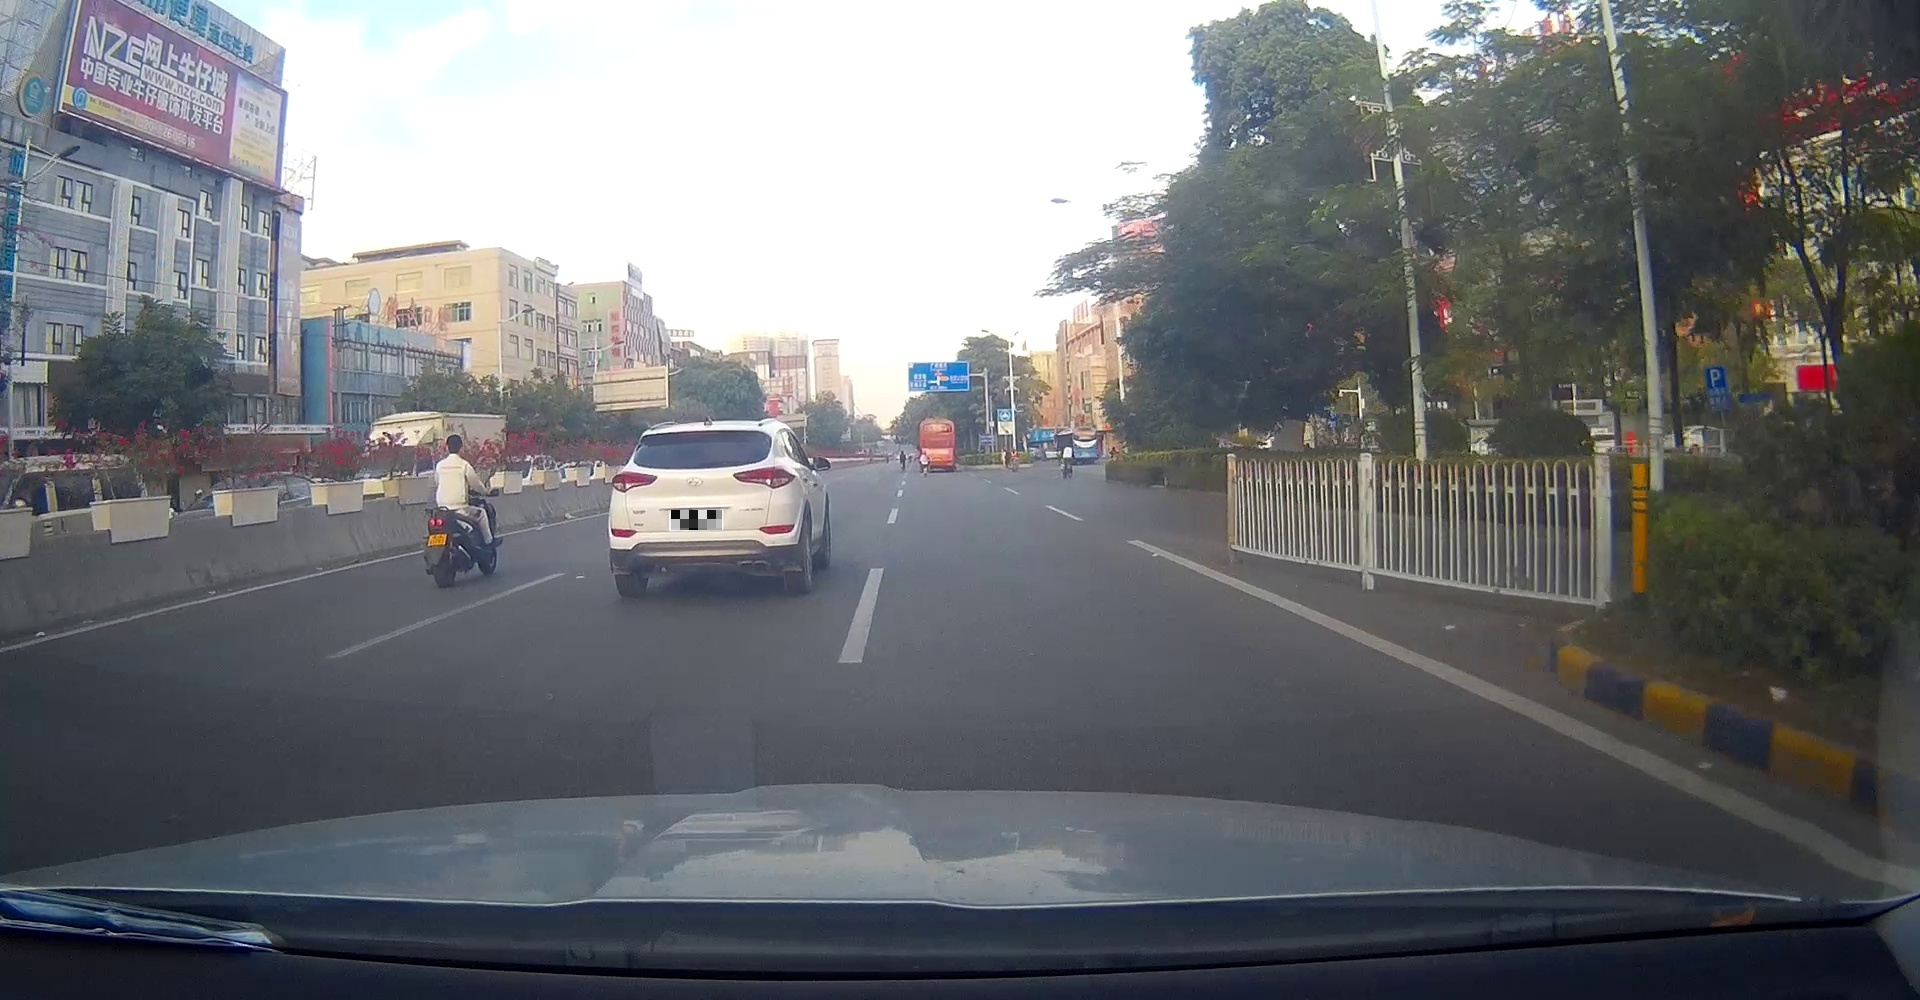L_light: (610, 470, 659, 492)
R_light: (731, 464, 797, 489)
T_light: (688, 429, 719, 435)
day-no: (607, 421, 808, 596)
plate_1: (670, 510, 723, 530)
